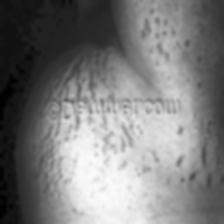Toxin: (34, 120, 140, 184), (39, 47, 115, 99), (186, 9, 224, 101), (173, 122, 224, 190), (135, 0, 177, 70)
